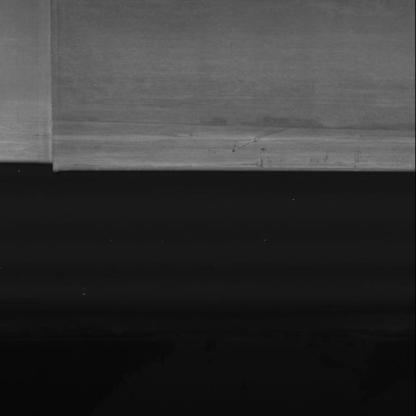welding_line: (38, 1, 74, 184)
